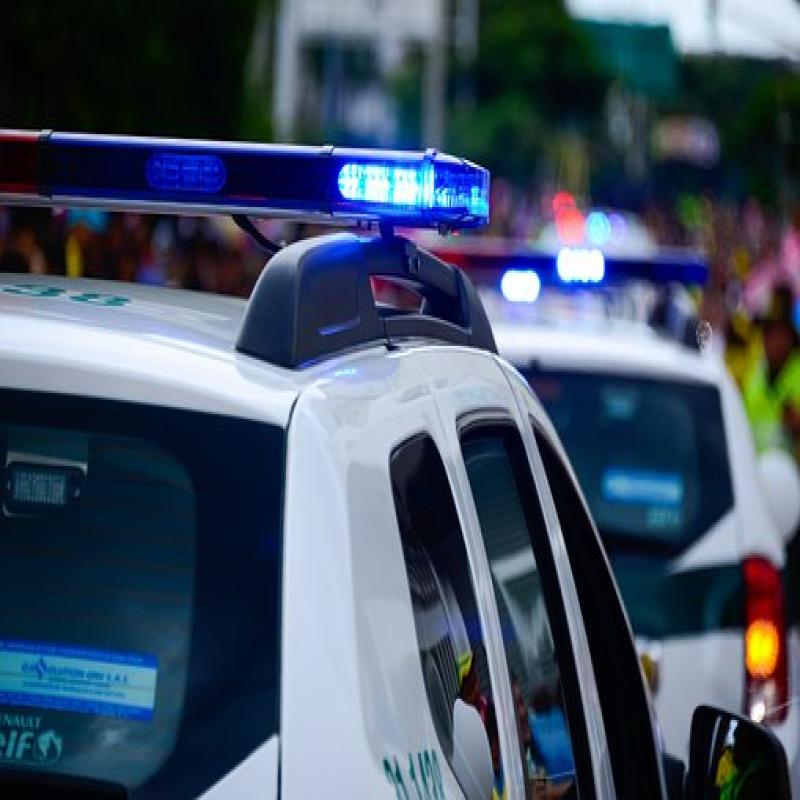AmbulanceSiren: (0, 108, 521, 270)
